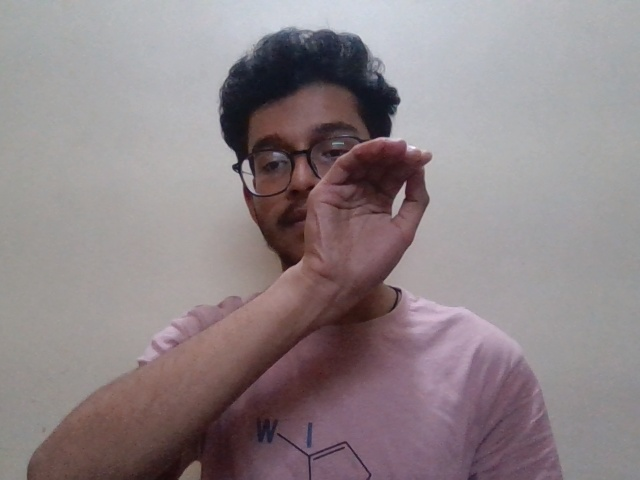sound: (305, 131, 429, 315)
